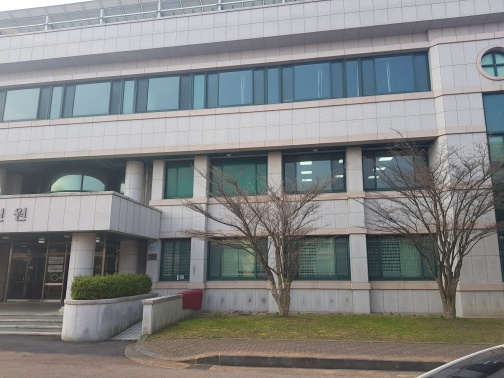Information Telecommunication Center: (1, 9, 499, 317)
